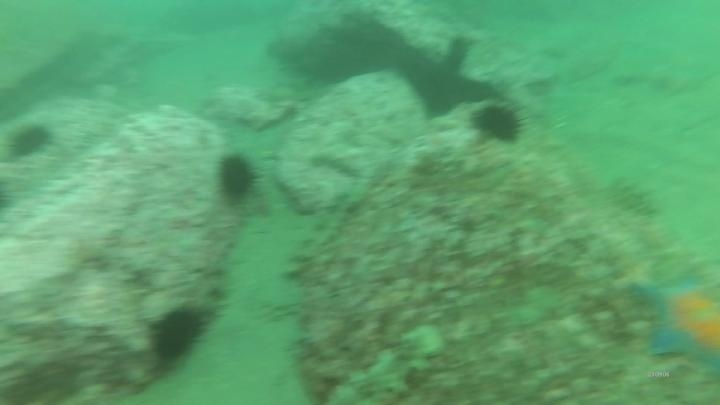echinus: (143, 301, 211, 373), (469, 99, 528, 147), (214, 151, 261, 206), (4, 121, 55, 163)
holothurian: (333, 322, 447, 404), (604, 173, 663, 219)
starfish: (630, 269, 719, 379)
